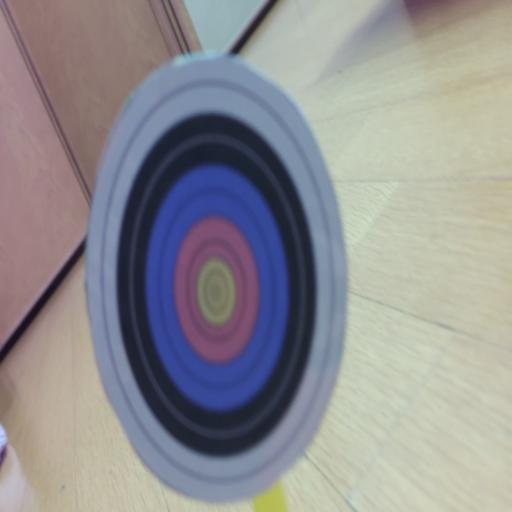target: (85, 55, 346, 501)
